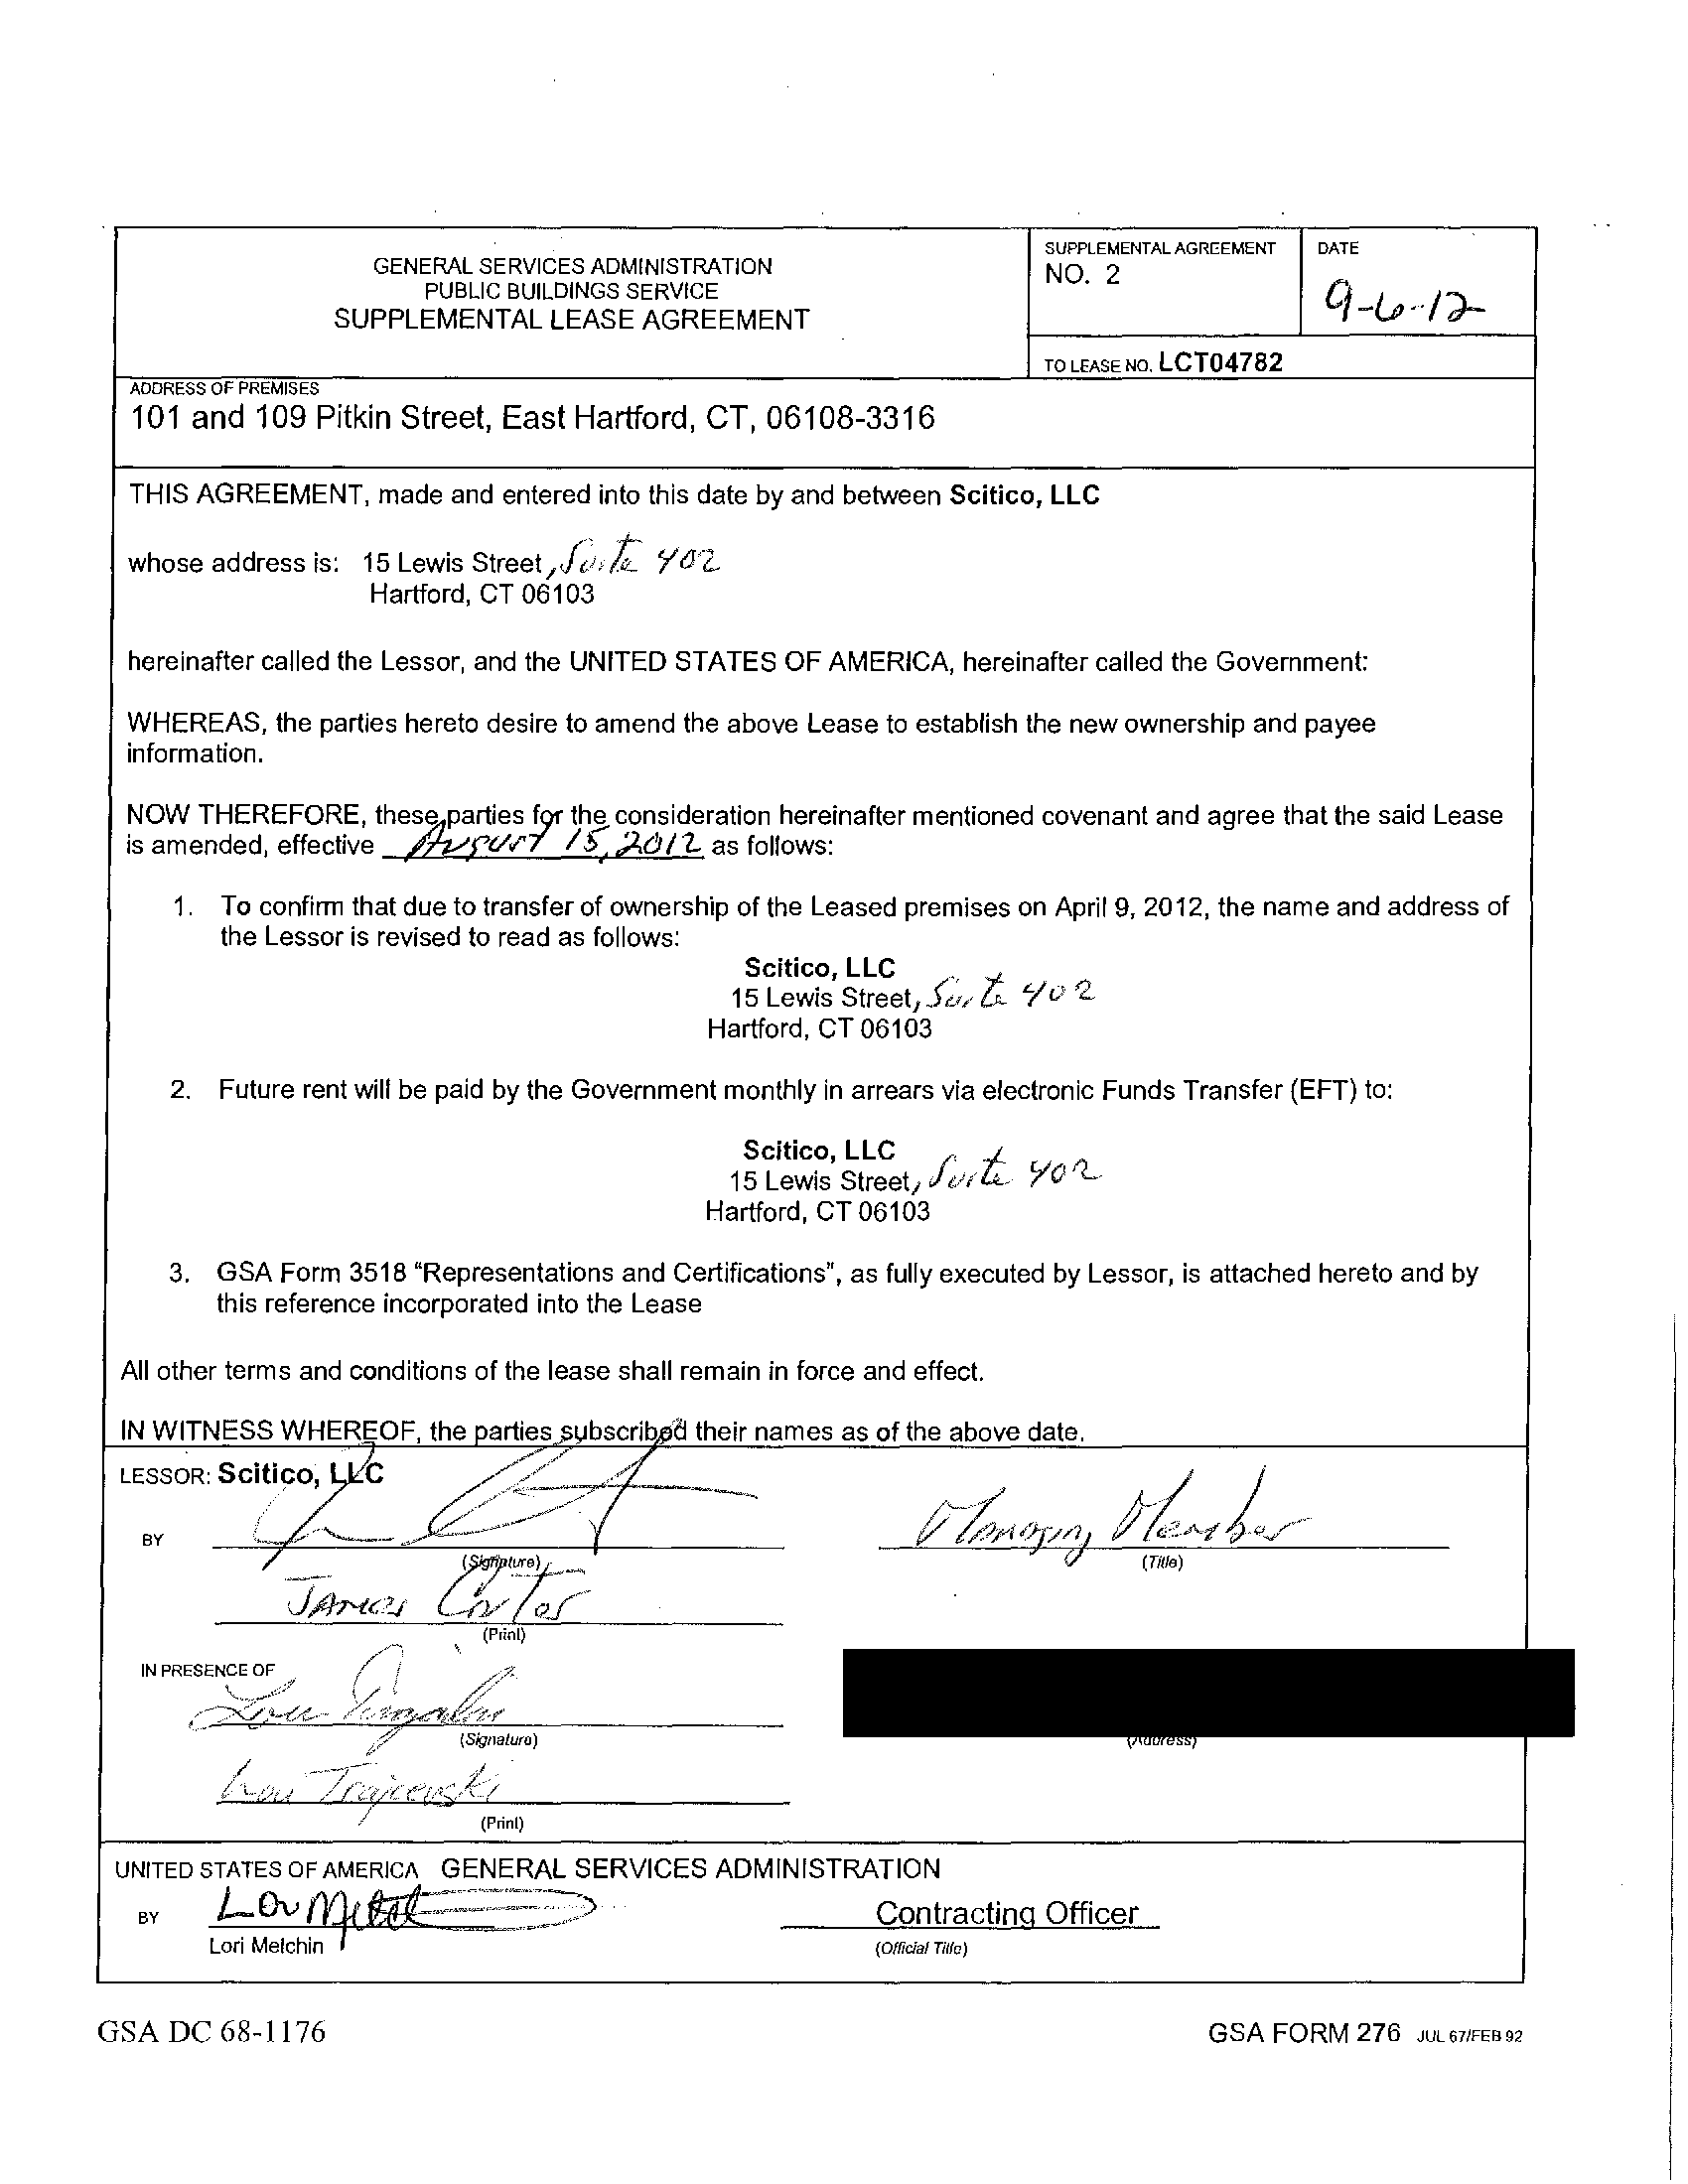handwritten: (245, 1443, 775, 1562), (878, 1443, 1333, 1562), (204, 1865, 656, 1971), (206, 1636, 543, 1748), (246, 1549, 615, 1631), (184, 1741, 534, 1824), (410, 805, 723, 872), (920, 940, 1121, 1030), (929, 1126, 1122, 1209), (1310, 261, 1497, 331), (562, 518, 741, 587)
